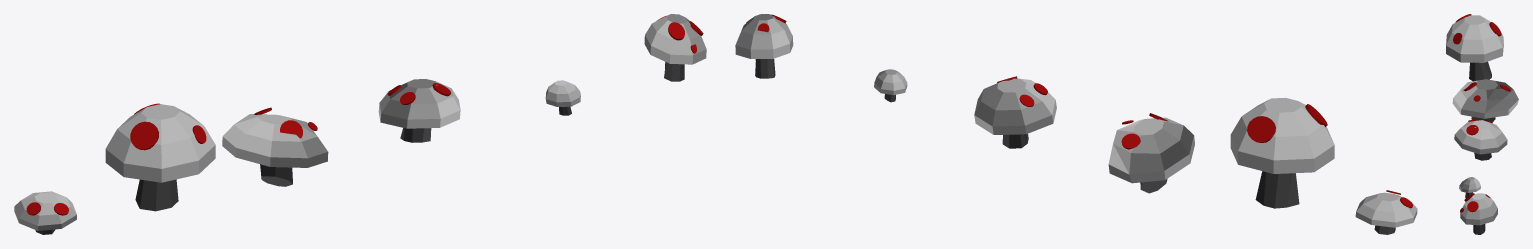
File: RedMushrooms.fbx
3 renders of one model, left to right at view 1: azimuth 30°, elevation 25°; view 2: azimuth 150°, elevation 25°; view 3: azimuth 270°, elevation 25°, orthographic. The views are drawn at different scales.
Visible parts, largest first — view 1: Object003, Object004, Object005, Object006, Object001, Object002, Cylinder001; view 2: Object003, Object004, Object005, Object006, Object001, Object002, Cylinder011; view 3: Object003, Object004, Object005, Object006, Object002, Cylinder013, Cylinder004, Cylinder011, Cylinder003, Cylinder006.
Boxes of the visible parts, <box> form: Object003: <box>105,104,215,211</box>; Object004: <box>222,114,328,186</box>; Object005: <box>378,79,460,142</box>; Object006: <box>644,14,706,81</box>; Object001: <box>14,191,76,234</box>; Object002: <box>545,80,580,115</box>; Cylinder001: <box>130,121,158,150</box>; Object003: <box>1230,97,1334,208</box>; Object004: <box>1108,117,1194,193</box>; Object005: <box>974,78,1056,148</box>; Object006: <box>735,14,793,78</box>; Object001: <box>1355,192,1417,234</box>; Object002: <box>874,69,907,102</box>; Cylinder011: <box>1247,116,1275,142</box>; Object003: <box>1446,15,1503,81</box>; Object004: <box>1452,79,1518,122</box>; Object005: <box>1454,120,1507,160</box>; Object006: <box>1460,193,1497,234</box>; Object002: <box>1459,177,1480,197</box>; Cylinder013: <box>1466,125,1478,135</box>; Cylinder004: <box>1467,201,1478,212</box>; Cylinder011: <box>1489,22,1501,36</box>; Cylinder003: <box>1453,33,1462,44</box>; Cylinder006: <box>1463,82,1476,91</box>.
Size of the model in its own units: 71.81 by 10.71 by 10.91.
